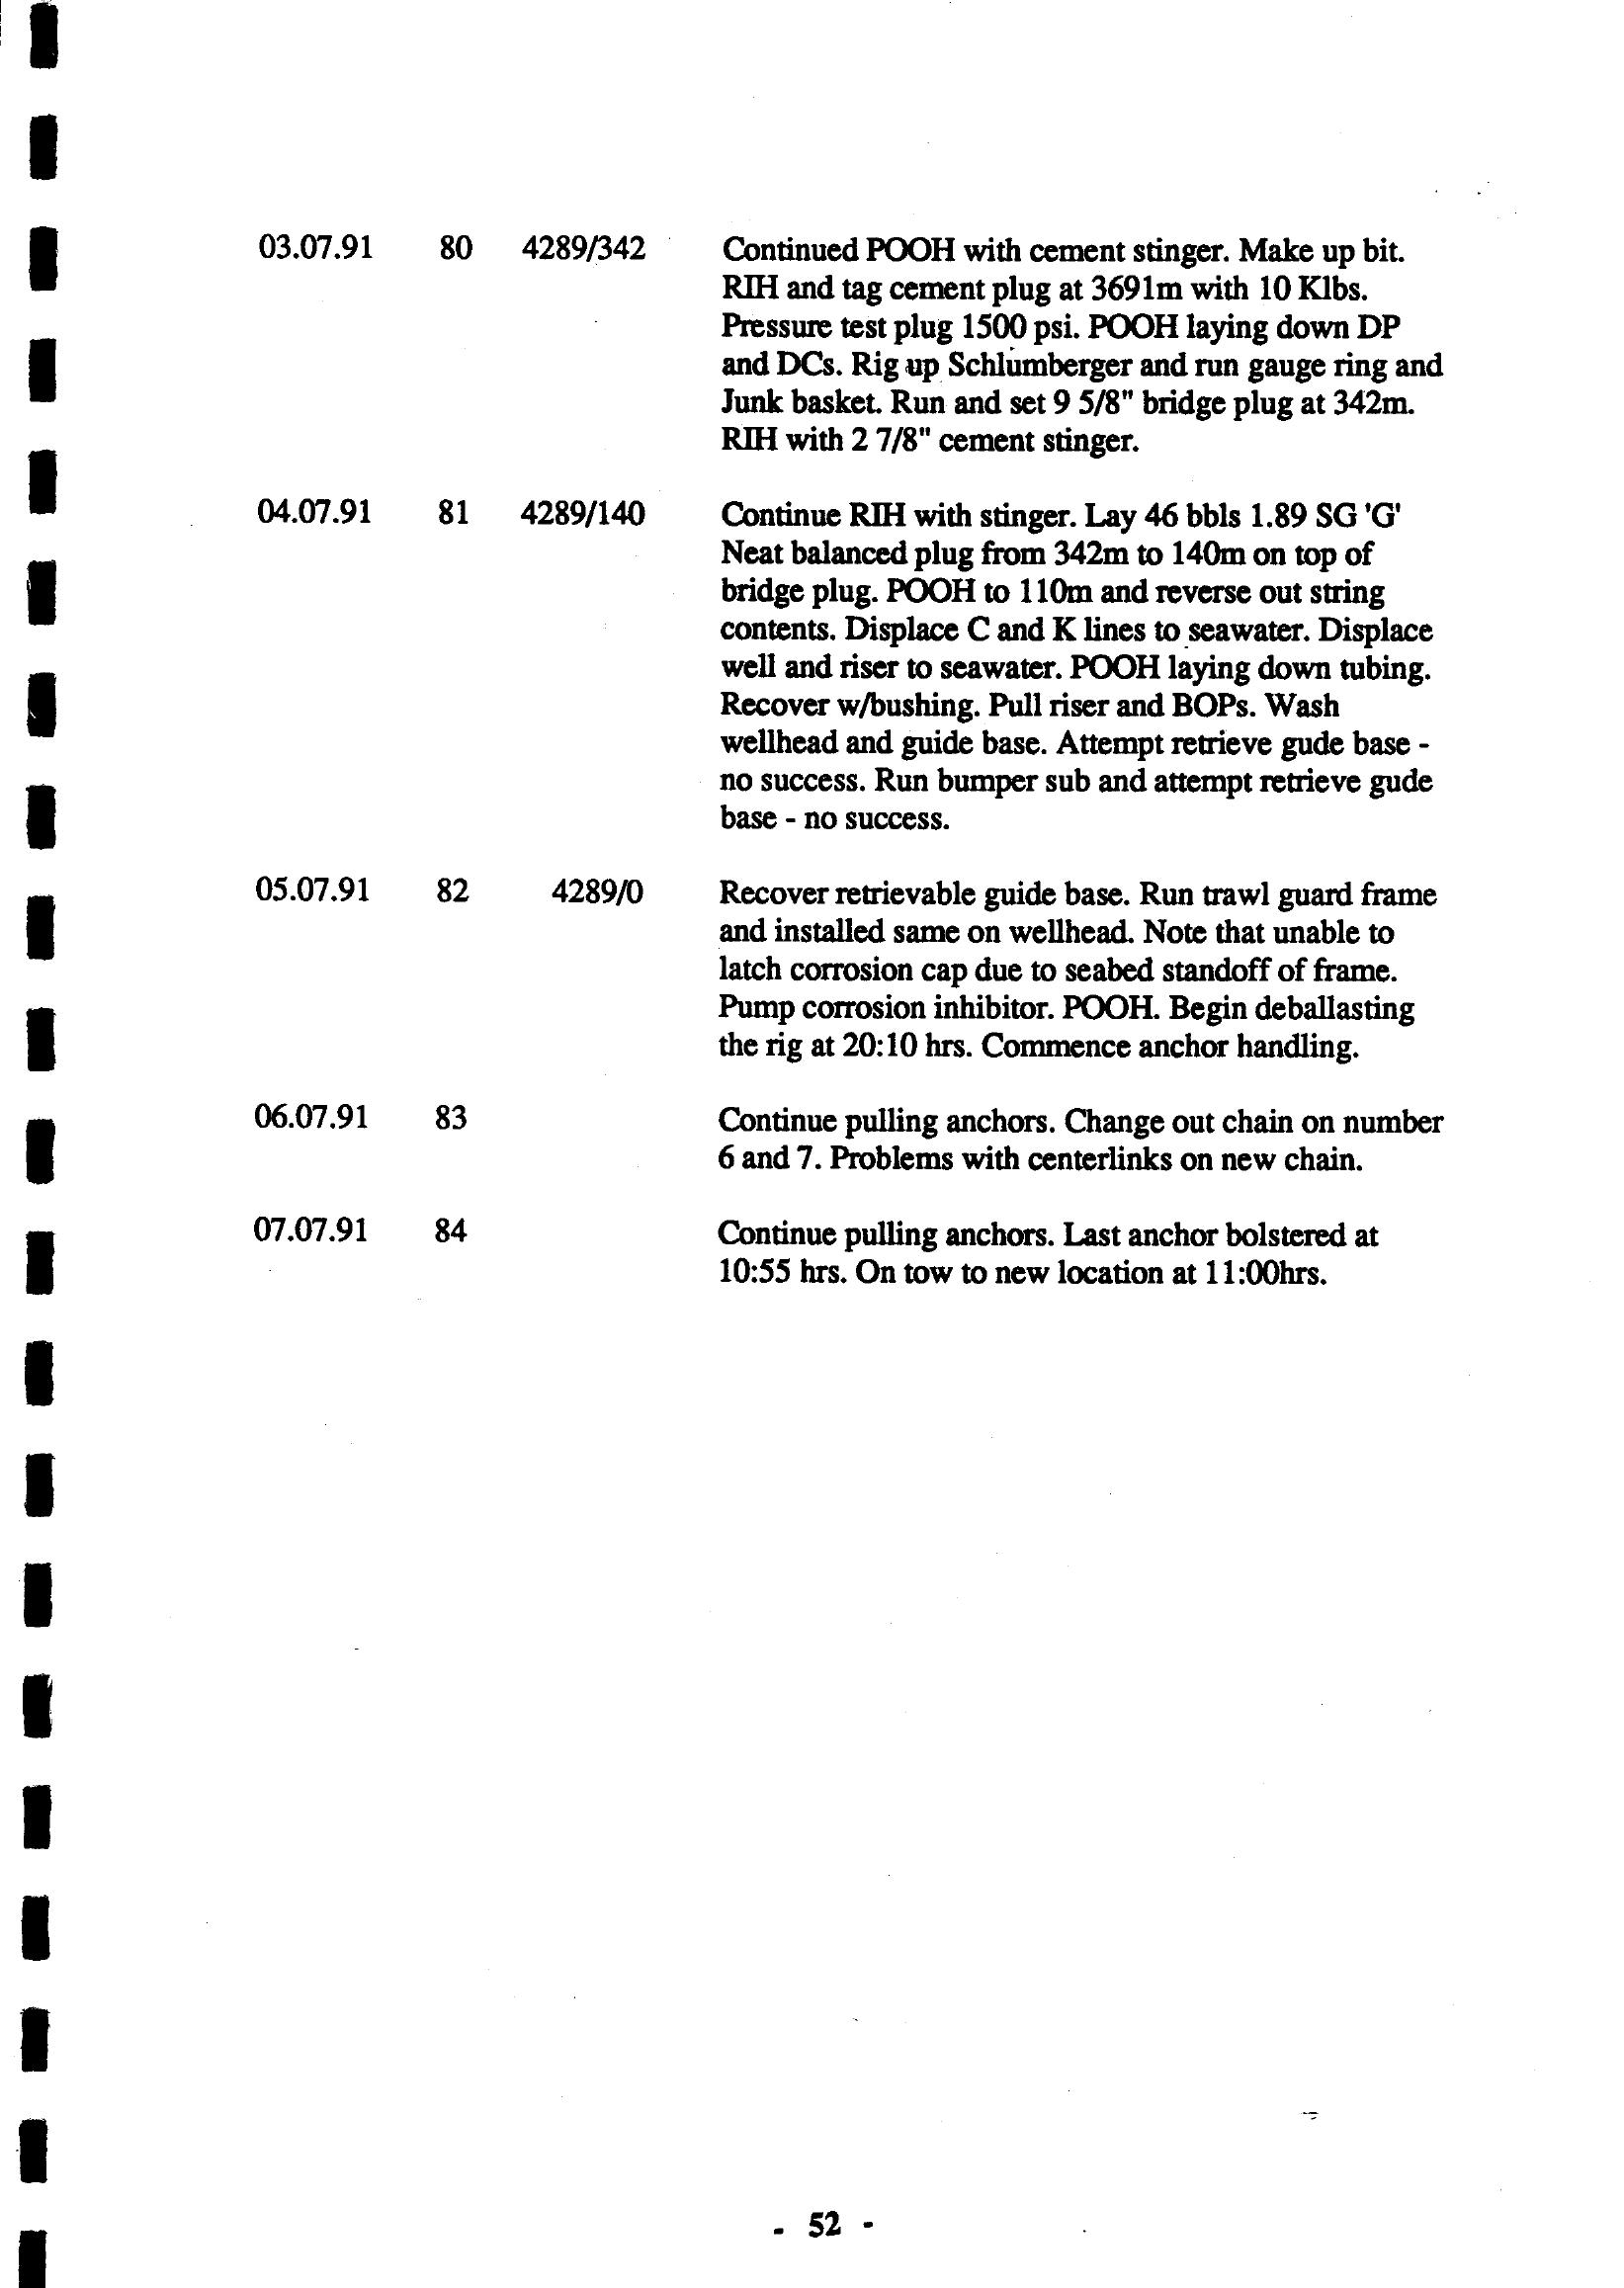text: (199, 188, 1459, 1327)
